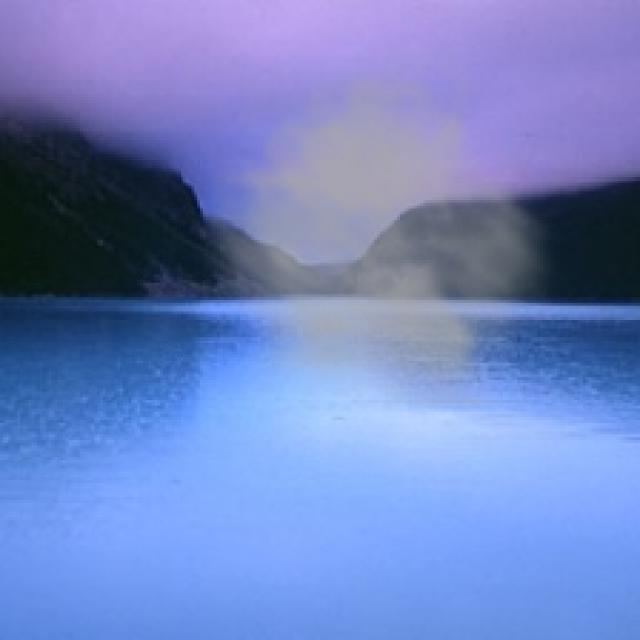smoke: (188, 31, 566, 406)
